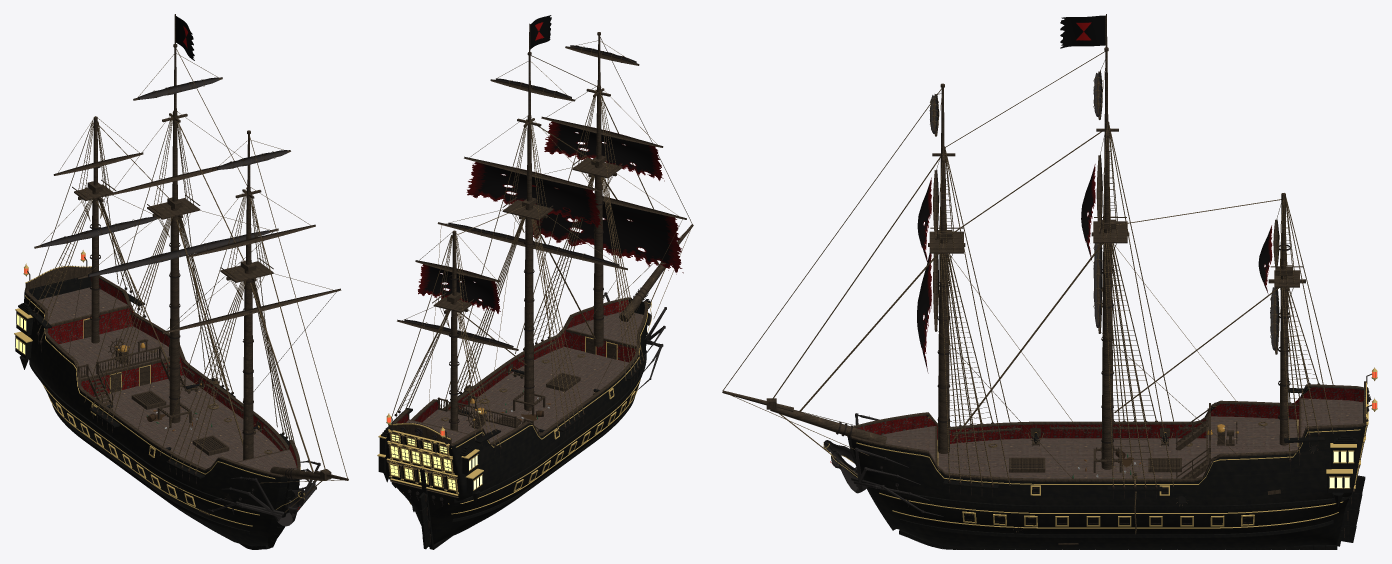
3 renders of one model, left to right at view 1: azimuth 30°, elevation 25°; view 2: azimuth 150°, elevation 25°; view 3: azimuth 270°, elevation 25°, orthographic. The views are drawn at different scales.
Parts seen in each view (by area): view 1: lod_paluba, lod_trup, lod_lanovi, lod_stezne, lod_prepazky, lod_palubni_veci, lod_plachty, lod_zad, lod_figura, lod_strilny, lod_vlajka; view 2: lod_plachty, lod_stezne, lod_trup, lod_lanovi, lod_paluba, lod_zad, lod_palubni_veci, lod_prepazky, lod_strilny, lod_figura, lod_vlajka; view 3: lod_trup, lod_paluba, lod_lanovi, lod_stezne, lod_plachty, lod_palubni_veci, lod_strilny, lod_zad, lod_figura, lod_vlajka.
Part boxes in pixels (x1,y1,x2,y2): lod_paluba: (25,275,300,476); lod_trup: (24,277,300,549); lod_lanovi: (28,48,347,512); lod_stezne: (30,14,348,483); lod_prepazky: (48,305,289,462); lod_palubni_veci: (71,339,285,455); lod_plachty: (41,77,287,276); lod_zad: (14,265,91,369); lod_figura: (208,460,320,526); lod_strilny: (55,378,261,506); lod_vlajka: (175,16,194,60); lod_plachty: (404,45,683,348); lod_stezne: (393,23,693,457); lod_trup: (385,299,647,549); lod_lanovi: (391,37,692,446); lod_paluba: (387,297,647,445); lod_zad: (377,422,483,506); lod_palubni_veci: (437,339,596,433); lod_prepazky: (409,329,636,434); lod_strilny: (457,364,635,491); lod_figura: (593,292,666,390); lod_vlajka: (530,15,551,49); lod_trup: (848,387,1365,549); lod_paluba: (851,384,1366,481); lod_lanovi: (722,15,1333,486); lod_stezne: (722,14,1324,498); lod_plachty: (917,73,1279,373); lod_palubni_veci: (952,403,1267,478); lod_strilny: (962,428,1254,526); lod_zad: (1326,381,1371,507); lod_figura: (823,413,943,516); lod_vlajka: (1060,15,1105,48).
Bounding box in the file's own units: 18 × 41.07 × 45.63.
Materials: 24 (11 with a texture image).
